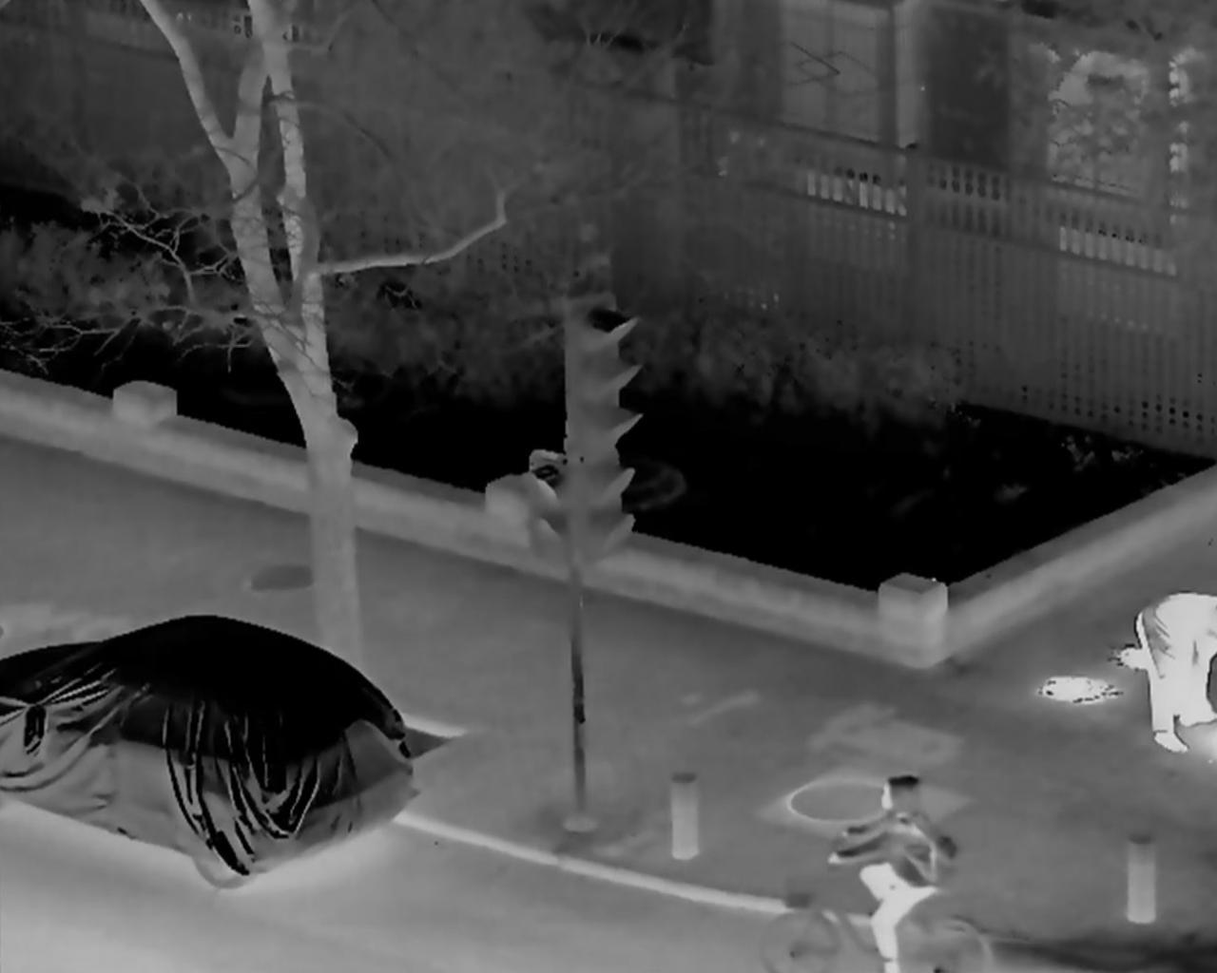person: (837, 777, 954, 970), (1135, 584, 1217, 751)
